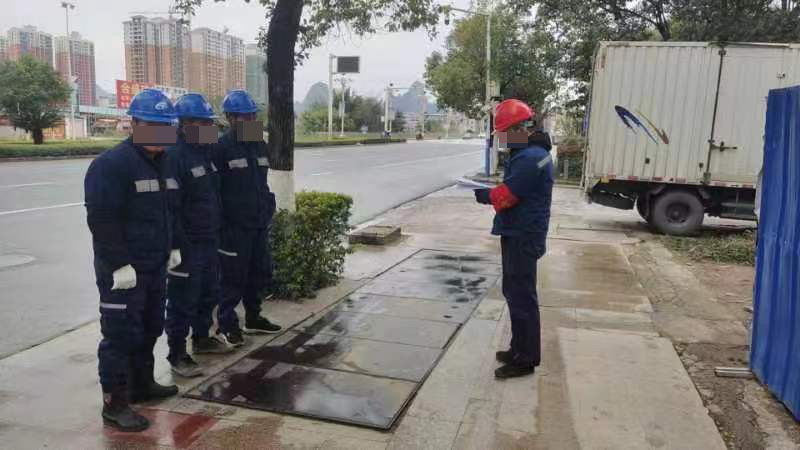badge: (489, 182, 519, 213)
downsuit: (217, 233, 274, 331), (500, 242, 545, 365)
halt: (126, 87, 177, 154), (493, 99, 538, 147), (175, 93, 216, 144), (222, 89, 260, 133)
inear: (505, 120, 530, 140), (125, 115, 144, 134), (224, 111, 241, 128), (178, 116, 192, 134)
person: (82, 85, 184, 426), (479, 97, 557, 378), (162, 87, 231, 358), (217, 89, 282, 347)
upsuit: (85, 140, 176, 271), (168, 135, 270, 241), (209, 133, 275, 234), (488, 144, 555, 239)
wglove: (110, 263, 137, 289), (167, 250, 181, 269)
